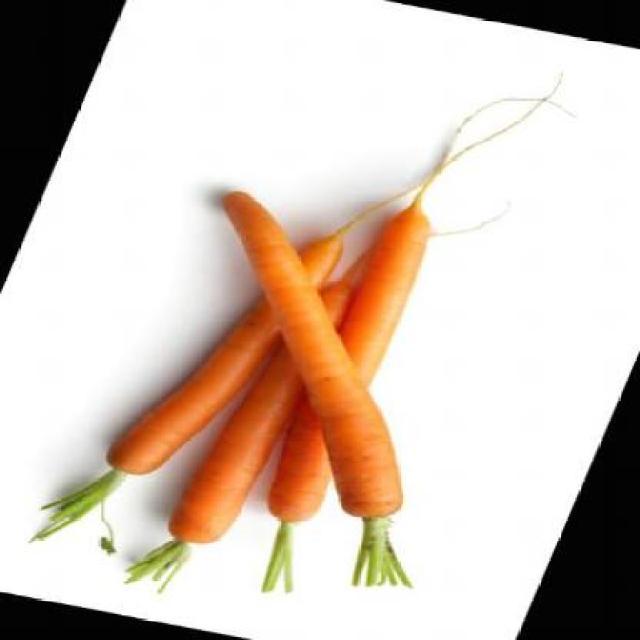carrot: (108, 188, 514, 526), (99, 204, 352, 496), (250, 205, 442, 528), (156, 259, 362, 553)
